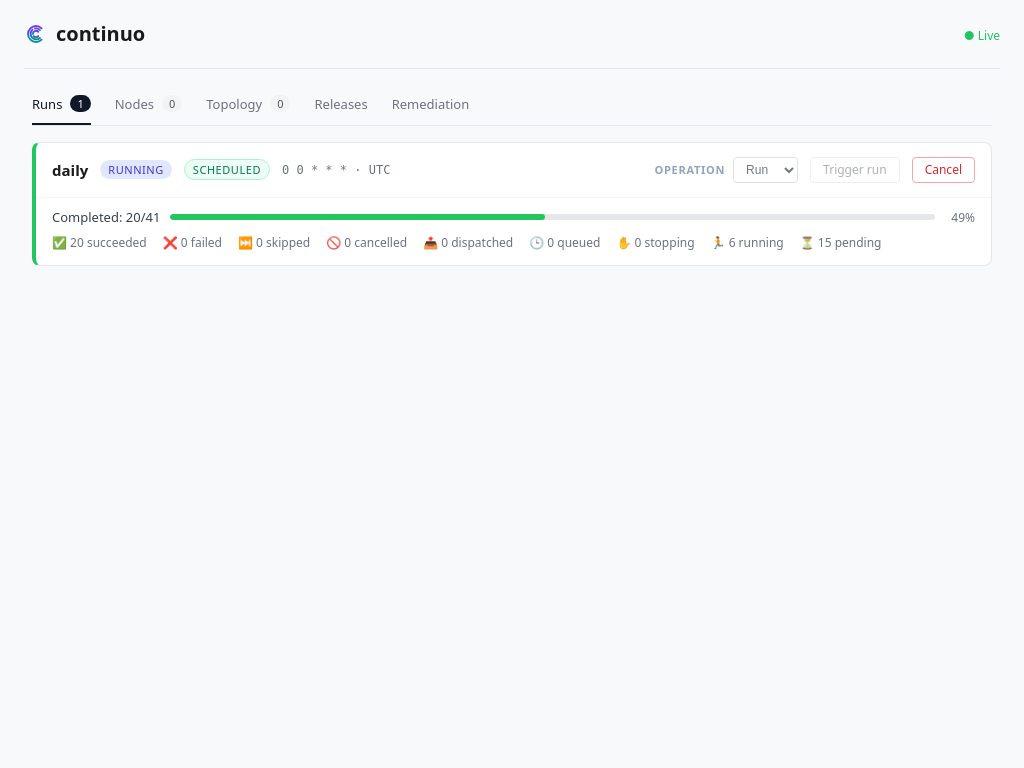
Test: DashboardPage — the Runs card after a cancel › keeps cancelling when a poll sent before the cancel answers after the read that follows it
The width and height of the screenshot is (1024, 768).
Click the button titled "Cancel the active run": (943, 170) [912,156,975,183]
Wait 5000 ms
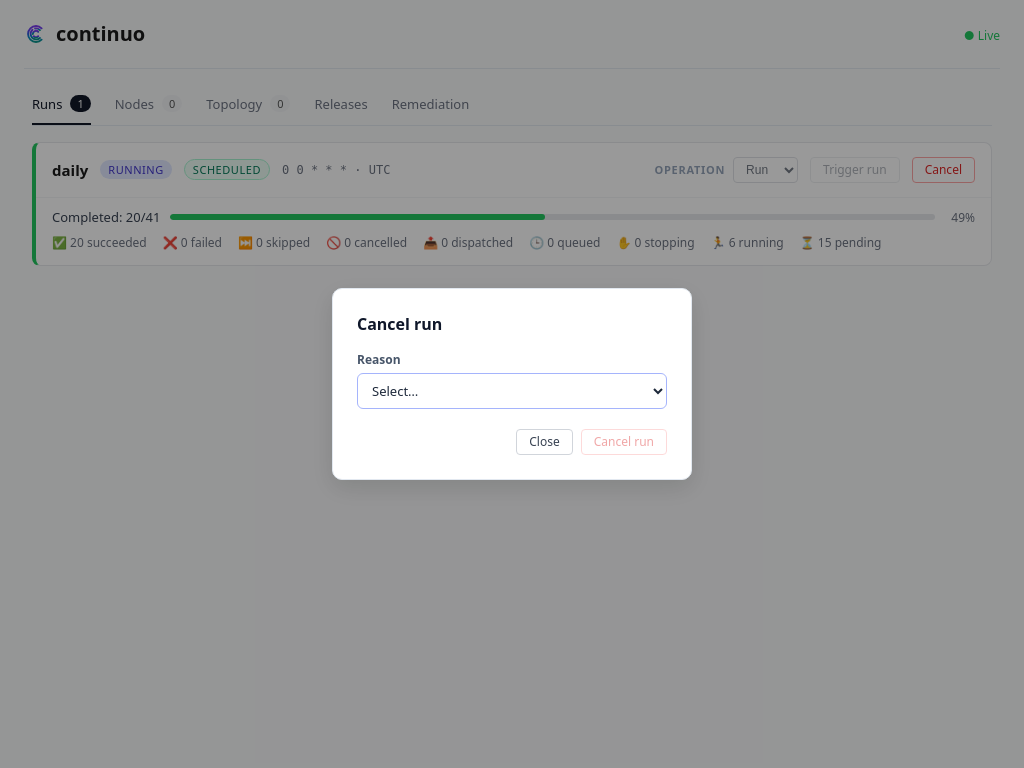
Select "Incorrect trigger" in the dropdown labelled "Reason": (512, 391) [357,373,667,409]
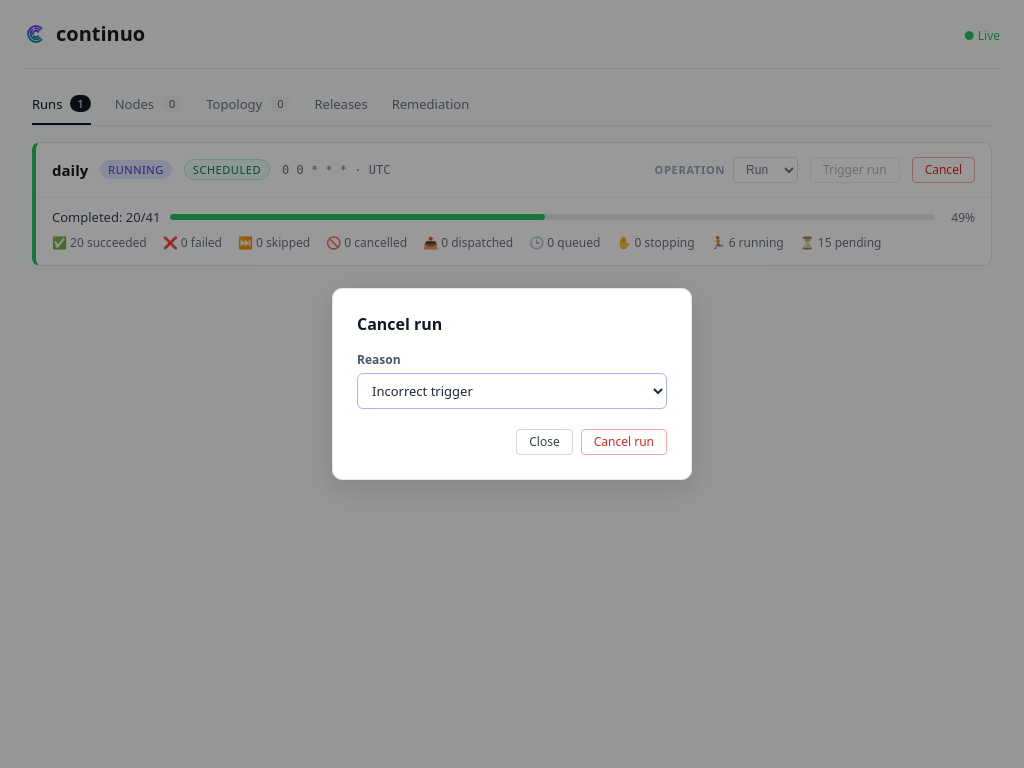
Click the button "Cancel run": (624, 442) [581,429,667,455]
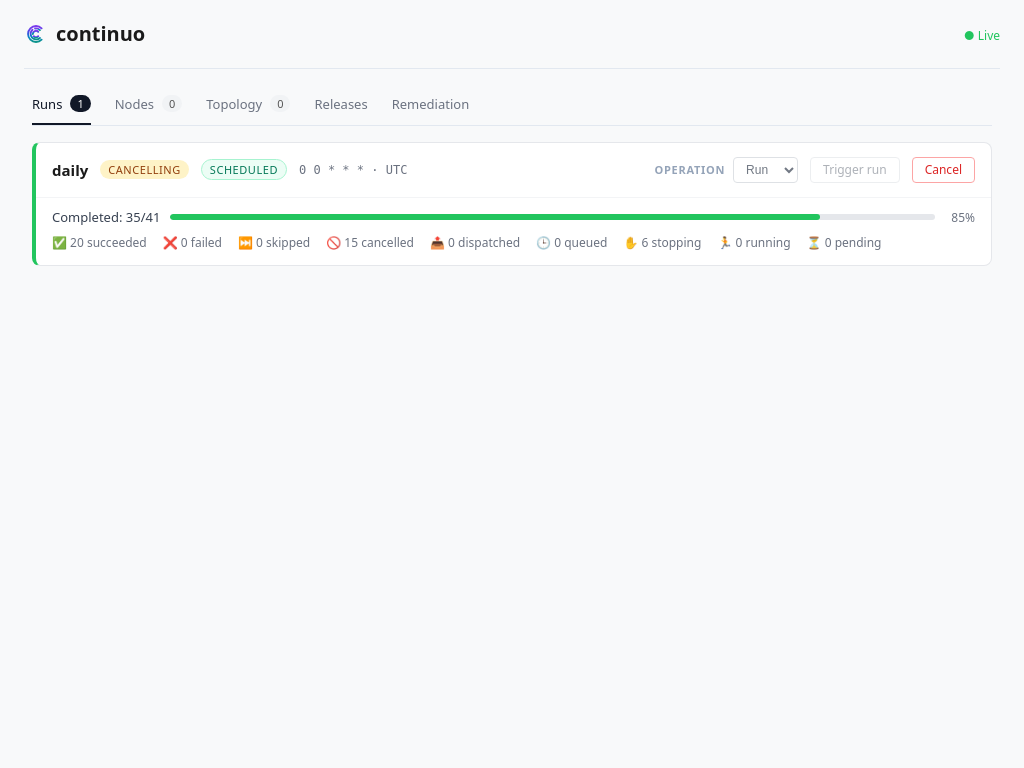
Expected: the text with class "status-badge" reads "cancelling", [108,162,181,177]
